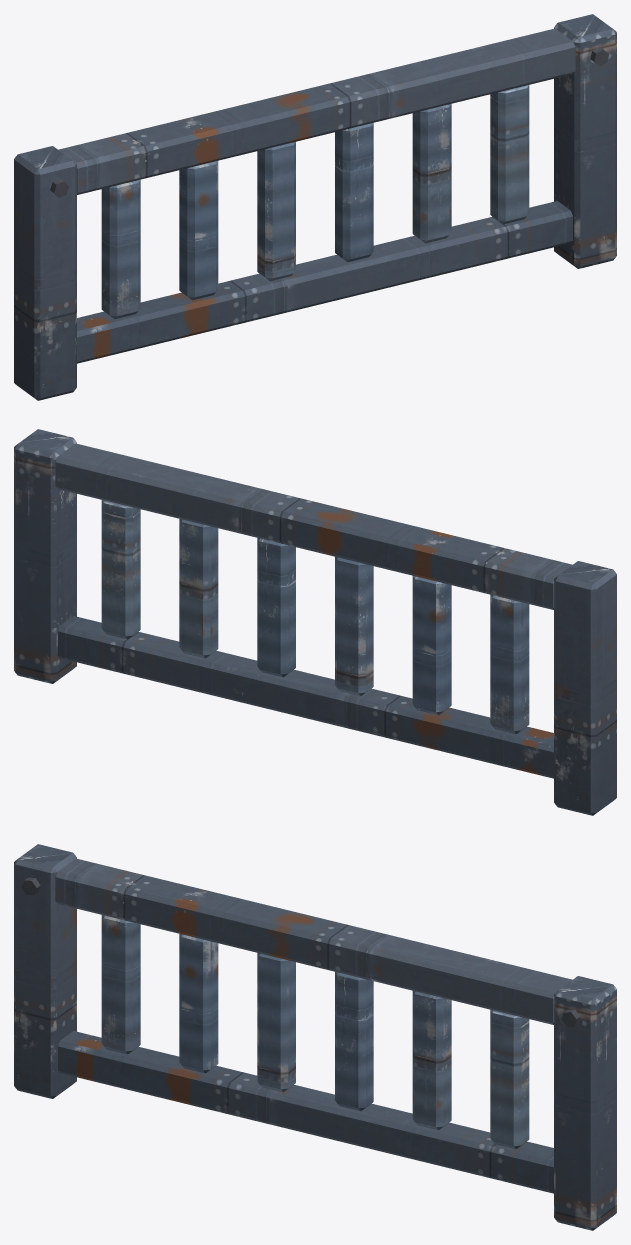
File: parmaklik.glb
3 renders of one model, top to bottom at view 1: azimuth 30°, elevation 25°; view 2: azimuth 150°, elevation 25°; view 3: azimuth 330°, elevation 25°, orthographic.
Parts seen in each view (by area): view 1: parmaklik; view 2: parmaklik; view 3: parmaklik.
Part boxes in pixels (x1,y1,x2,y2): parmaklik: (14, 14, 616, 400); parmaklik: (14, 429, 616, 815); parmaklik: (14, 844, 616, 1230).
Size of the model in its own units: 3 by 1.14 by 0.255.
Materials: 1 (1 with a texture image).
